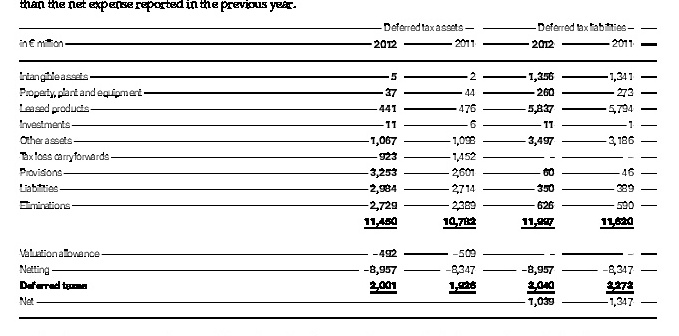table: (0, 0, 679, 336)
